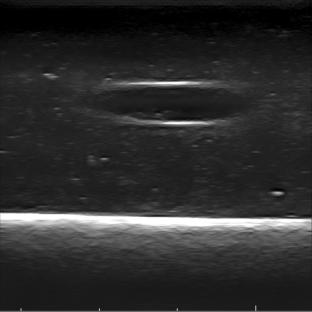vessel: (95, 79, 248, 126)
